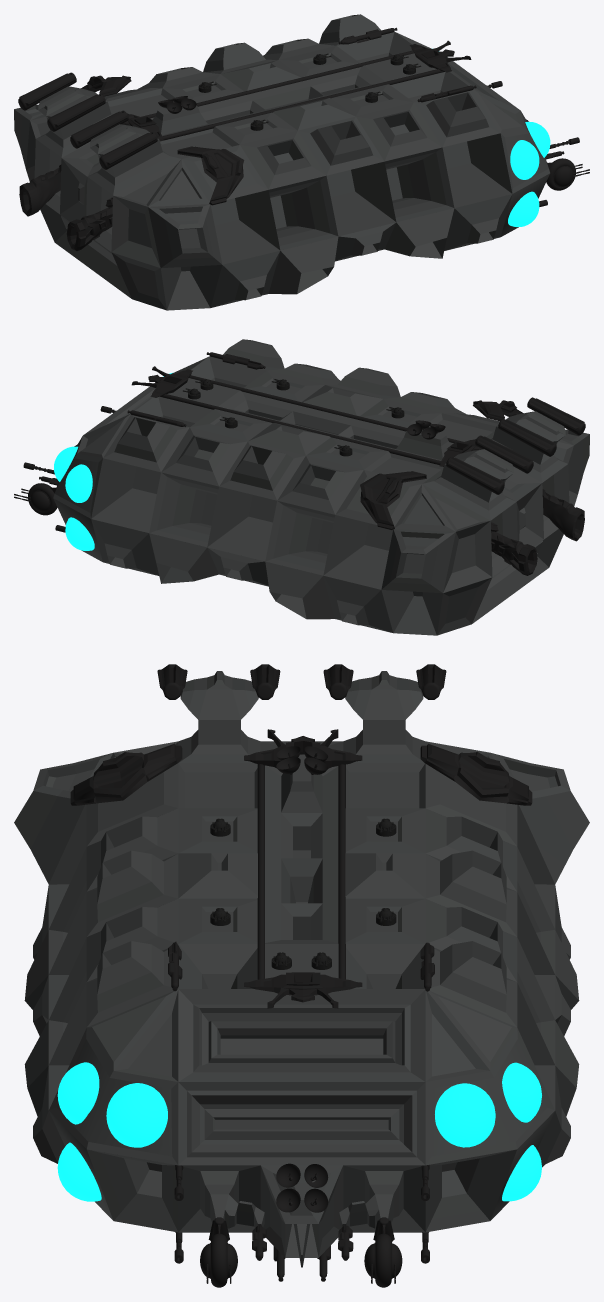
The model's file is Spaceship.fbx.
3 views of the same model, one above another, from view 1: azimuth 30°, elevation 25°; view 2: azimuth 150°, elevation 25°; view 3: azimuth 270°, elevation 25° (orthographic). The views are drawn at different scales.
Visible parts, largest first — view 1: ChamferBox001, Box003werwerwe, Box007, Box006uyi, ChamferCyl034, ChamferCyl035, Sphere061, ChamferCyl003, ChamferCyl005, Torus012_08 - Default_0, ChamferCyl002, ChamferCyl004 (+6 smaller); view 2: ChamferBox001, Box003werwerwe001, Box006uyi, Box007, ChamferCyl035, ChamferCyl034, ChamferCyl004, ChamferCyl002, Torus012_08 - Default_0, Sphere062, ChamferCyl005, ChamferCyl003 (+6 smaller); view 3: ChamferBox001, Box003werwerwe, Box003werwerwe001, Sphere065, Sphere066, Torus012_08 - Default_0, Sphere061, Sphere062, ChamferCyl035, ChamferCyl034, Torus005_08 - Default_0, Sphere064 (+7 smaller).
Part boxes in pixels (x1=…): ChamferBox001: x1=14, y1=14, x2=550, y2=310; Box003werwerwe: x1=177, y1=146, x2=244, y2=205; Box007: x1=66, y1=197, x2=112, y2=250; Box006uyi: x1=19, y1=164, x2=61, y2=216; ChamferCyl034: x1=162, y1=69, x2=444, y2=140; ChamferCyl035: x1=145, y1=50, x2=414, y2=118; Sphere061: x1=510, y1=140, x2=539, y2=179; ChamferCyl003: x1=47, y1=94, x2=105, y2=131; ChamferCyl005: x1=99, y1=132, x2=157, y2=169; Torus012_08 - Default_0: x1=410, y1=40, x2=471, y2=72; ChamferCyl002: x1=18, y1=72, x2=76, y2=110; ChamferCyl004: x1=70, y1=110, x2=128, y2=148; ChamferBox001: x1=53, y1=339, x2=589, y2=635; Box003werwerwe001: x1=360, y1=471, x2=426, y2=529; Box006uyi: x1=491, y1=522, x2=537, y2=575; Box007: x1=542, y1=489, x2=584, y2=541; ChamferCyl035: x1=160, y1=394, x2=440, y2=464; ChamferCyl034: x1=189, y1=375, x2=463, y2=442; ChamferCyl004: x1=498, y1=418, x2=556, y2=456; ChamferCyl002: x1=446, y1=457, x2=504, y2=494; Torus012_08 - Default_0: x1=131, y1=366, x2=192, y2=397; Sphere062: x1=65, y1=464, x2=92, y2=502; ChamferCyl005: x1=527, y1=397, x2=585, y2=435; ChamferCyl003: x1=475, y1=435, x2=533, y2=473; ChamferBox001: x1=14, y1=671, x2=589, y2=1267; Box003werwerwe: x1=70, y1=743, x2=182, y2=805; Box003werwerwe001: x1=420, y1=743, x2=532, y2=805; Sphere065: x1=106, y1=1083, x2=167, y2=1147; Sphere066: x1=435, y1=1083, x2=495, y2=1147; Torus012_08 - Default_0: x1=244, y1=972, x2=362, y2=1008; Sphere061: x1=57, y1=1062, x2=99, y2=1124; Sphere062: x1=502, y1=1062, x2=541, y2=1122; ChamferCyl035: x1=338, y1=764, x2=345, y2=979; ChamferCyl034: x1=257, y1=764, x2=264, y2=979; Torus005_08 - Default_0: x1=244, y1=729, x2=362, y2=768; Sphere064: x1=57, y1=1142, x2=101, y2=1201.
Bounding box in the file's own units: 3469 × 1168 × 2116.
